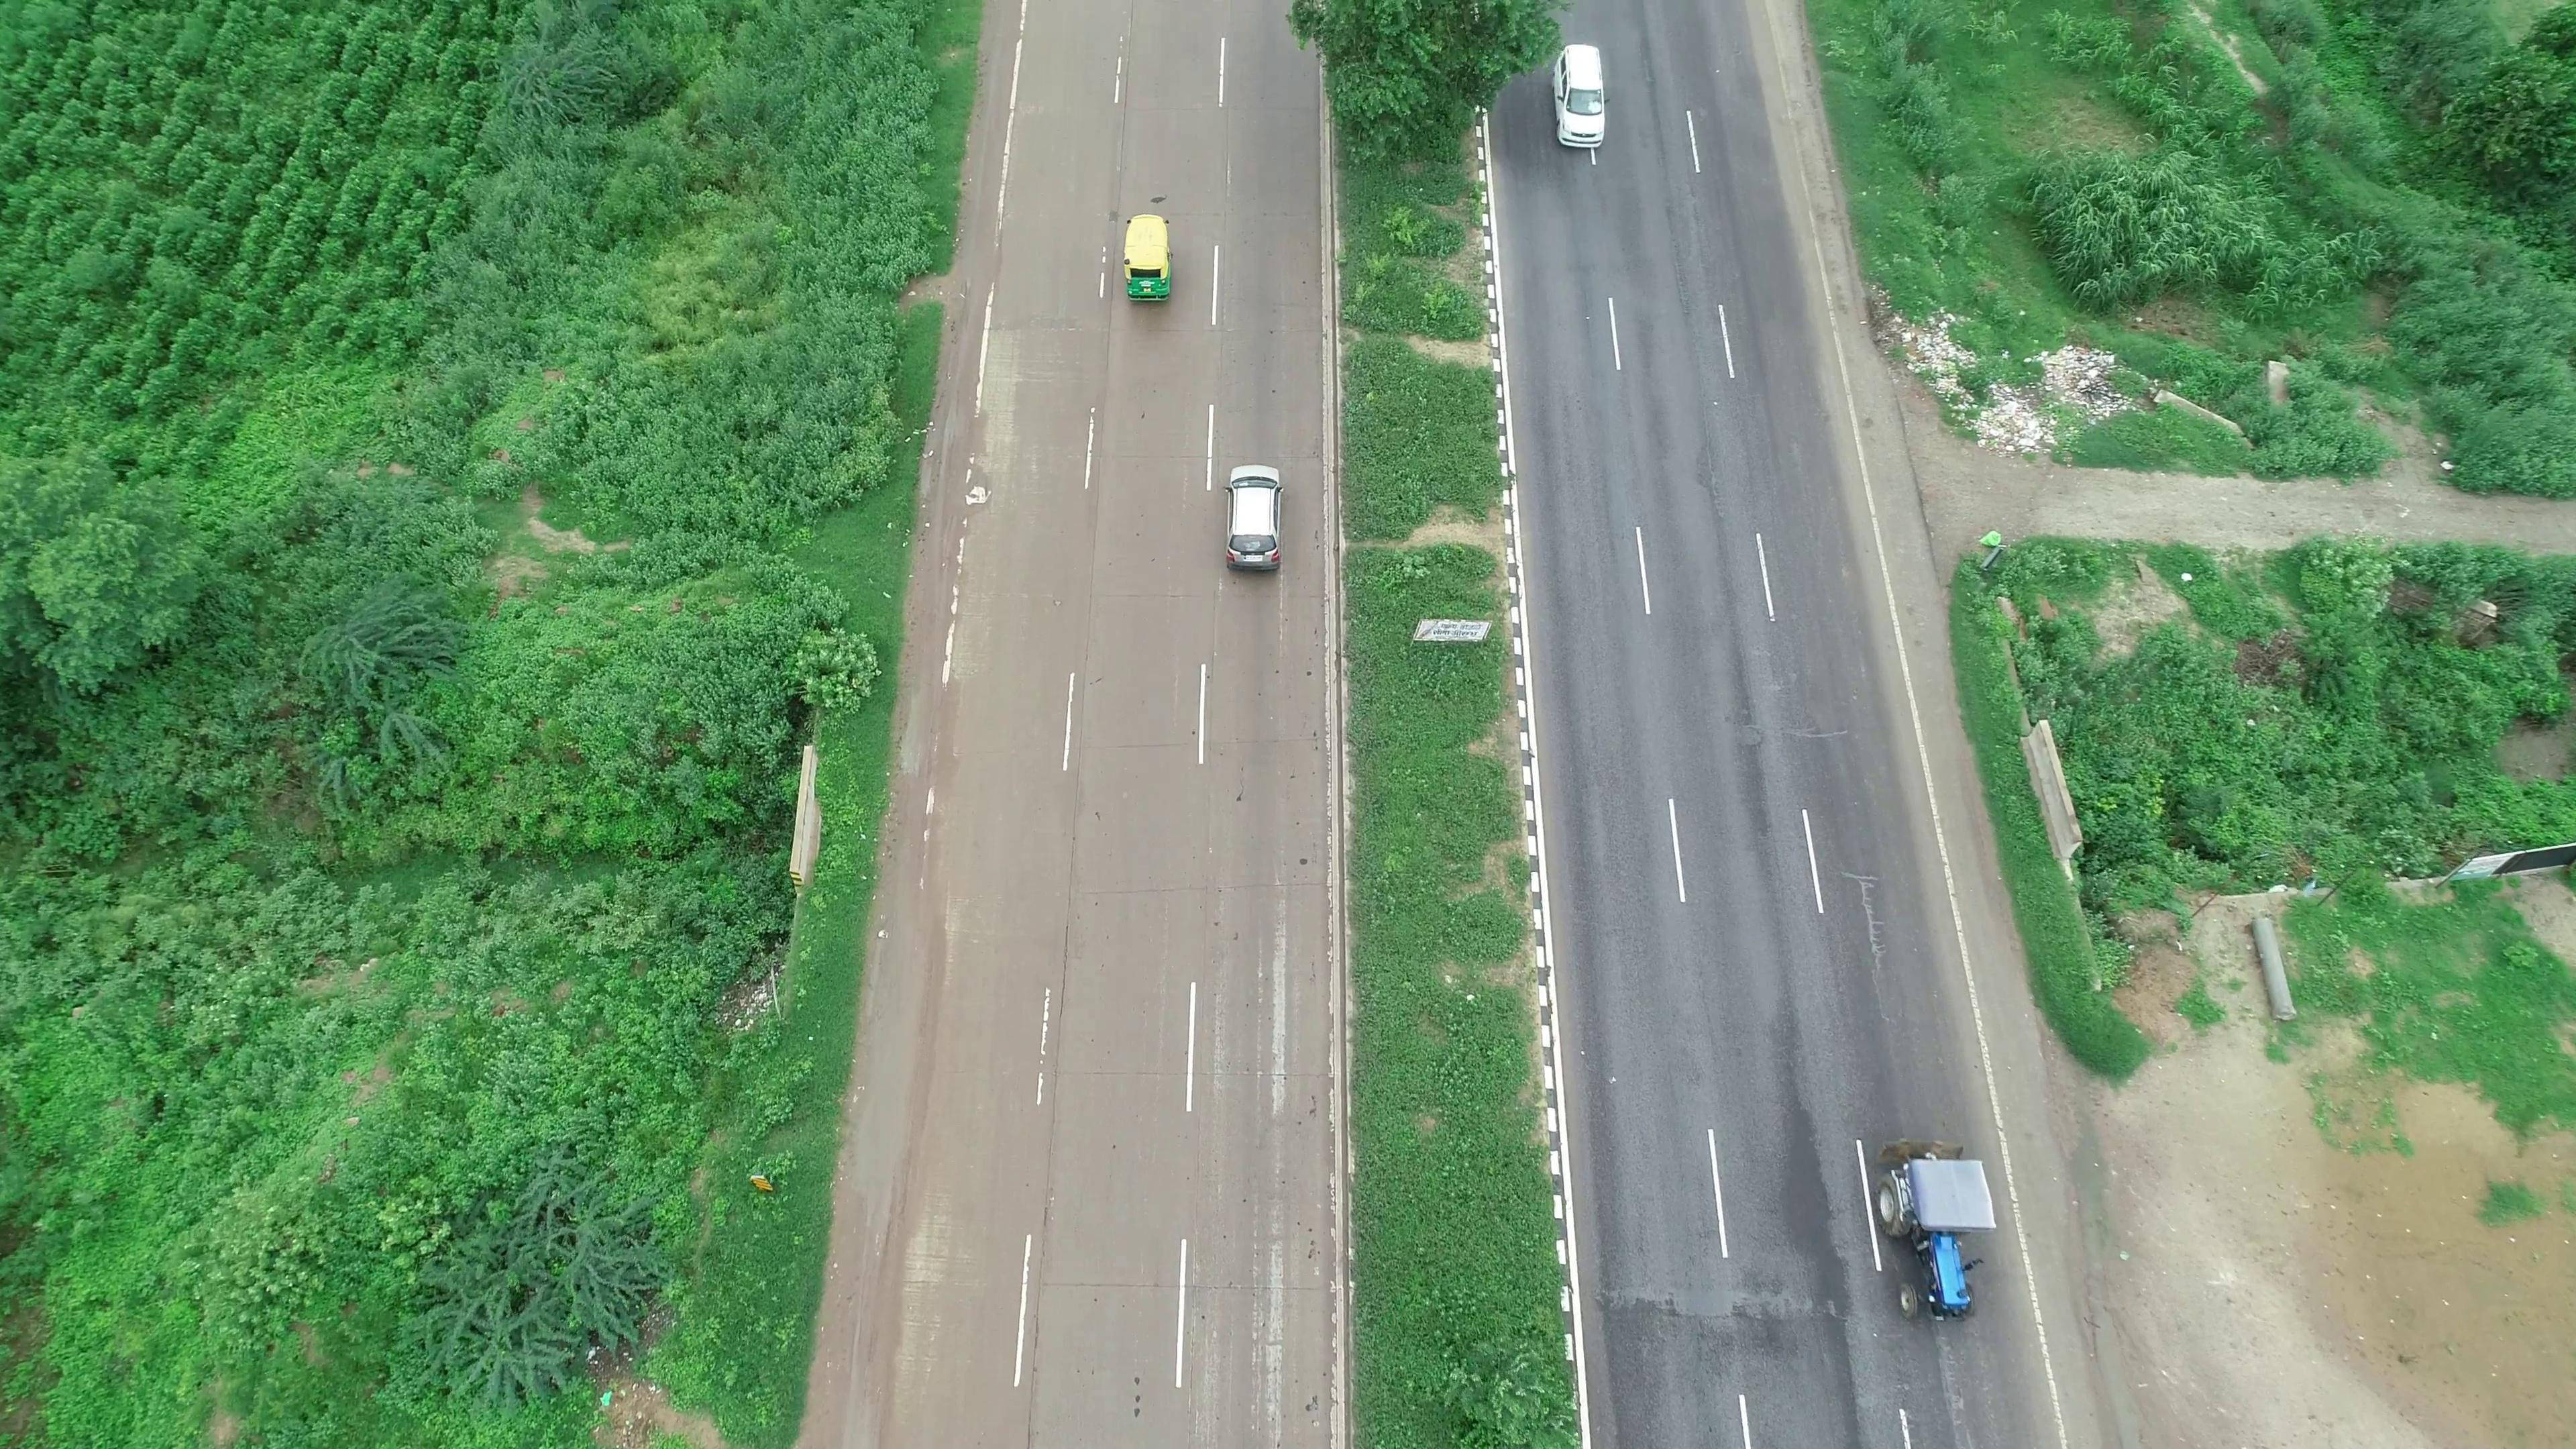Longitudinal_cracks: (1845, 862, 1902, 1035)
Road_side_garbage: (1905, 336, 2127, 446)
